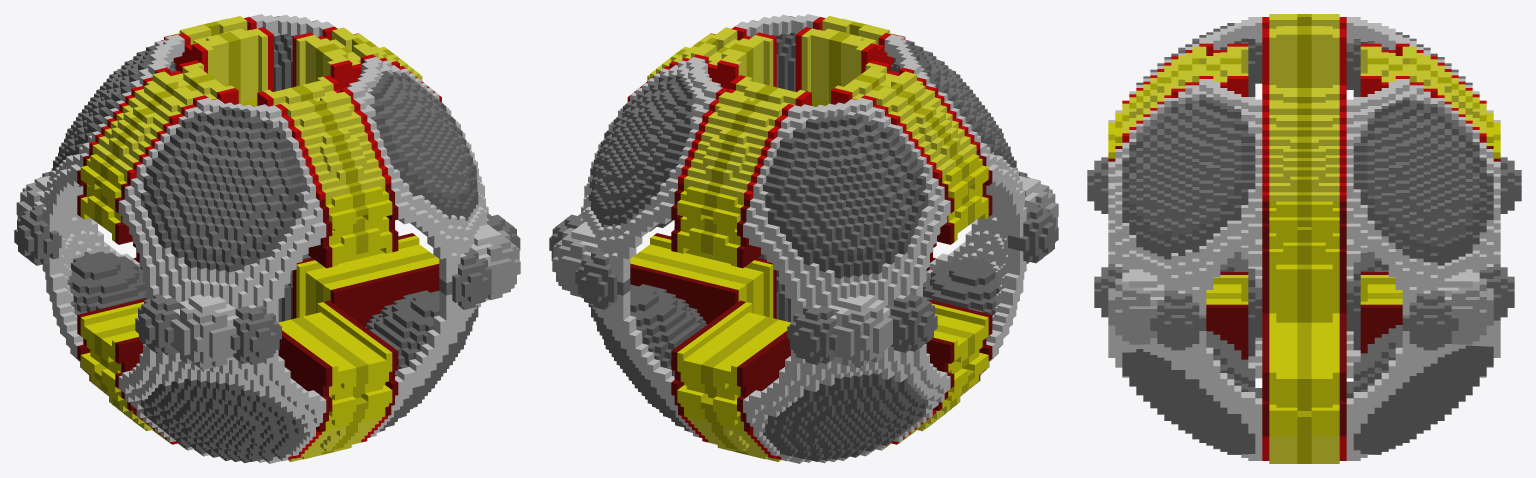
The model's file is cyndrive_ships_silo.fbx.
The picture shows the model from 3 angles, left to right: view 1: azimuth 30°, elevation 25°; view 2: azimuth 150°, elevation 25°; view 3: azimuth 270°, elevation 25°; orthographic projection.
Parts seen in each view (by area): view 1: model_2; view 2: model_2; view 3: model_2.
Part boxes in pixels (<box>): model_2: <box>14,14,520,463</box>; model_2: <box>549,14,1058,463</box>; model_2: <box>1087,14,1521,463</box>.
Size of the model in its own units: 620 by 560 by 620.
